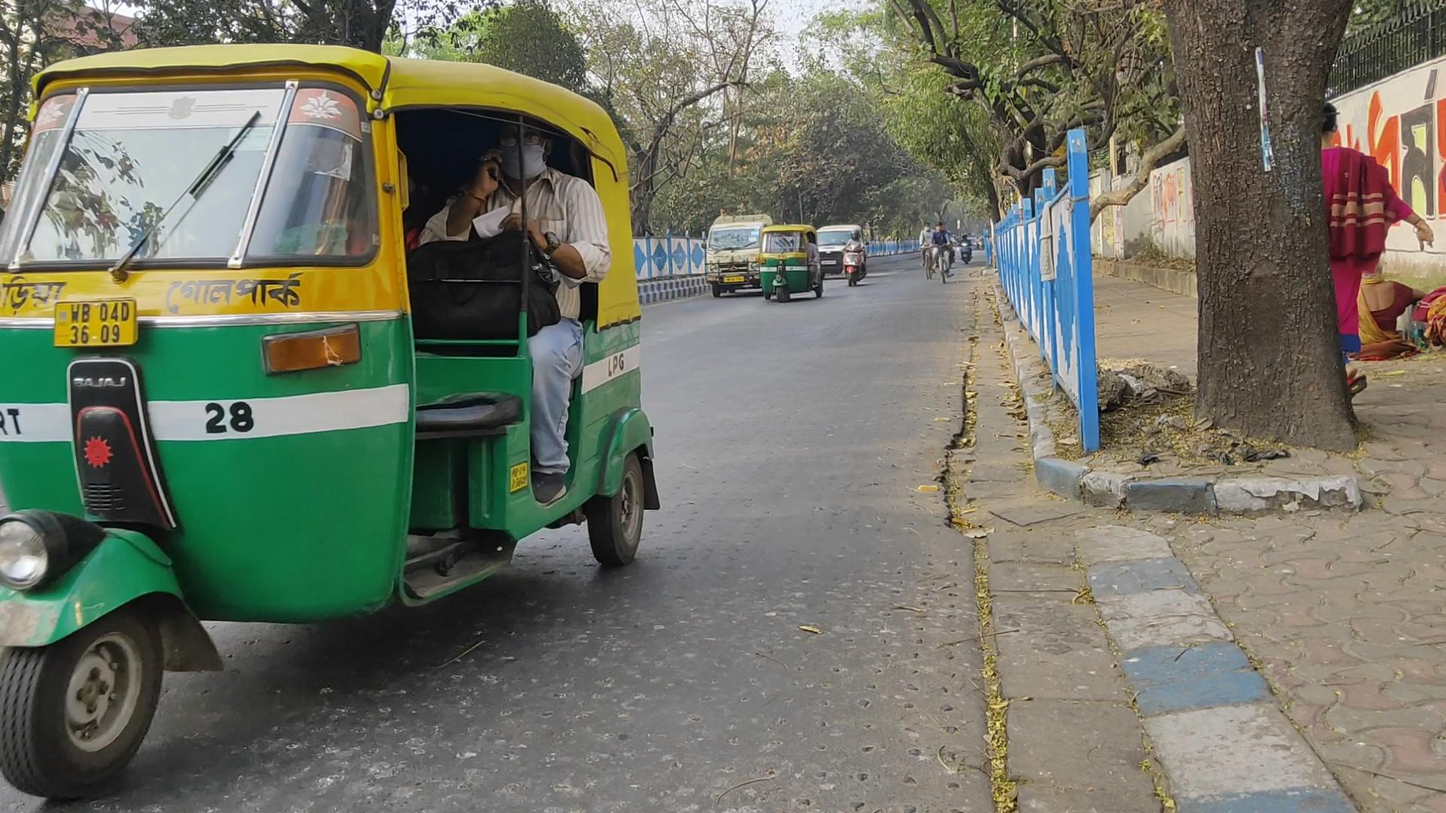Auto: (2, 45, 663, 805), (758, 224, 823, 303)
bike: (841, 229, 869, 287), (930, 222, 953, 285), (919, 222, 938, 280), (959, 233, 974, 264)
car: (816, 224, 866, 281)
van: (706, 214, 772, 297)
